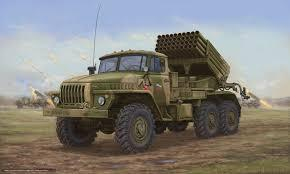MIL_SAM_TEL: (42, 32, 247, 151)
